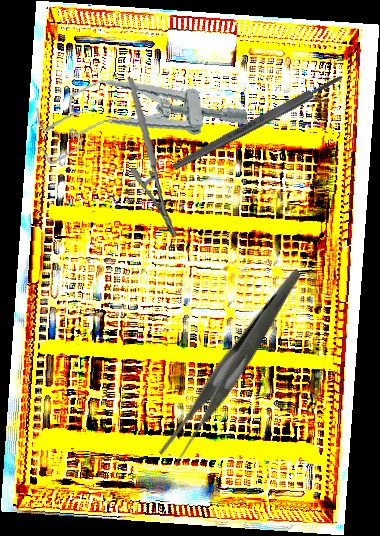Dressing Forceps: (120, 268, 348, 470)
Needle Holder: (116, 78, 190, 236)
Scalpel Handle: (169, 72, 346, 173)
Speculum: (31, 63, 250, 166)
